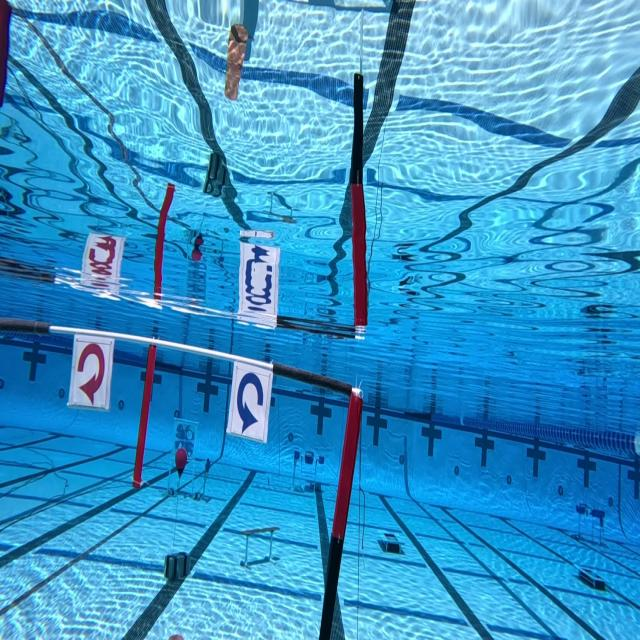blue_side: (226, 358, 275, 444)
red_side: (67, 331, 117, 414)
